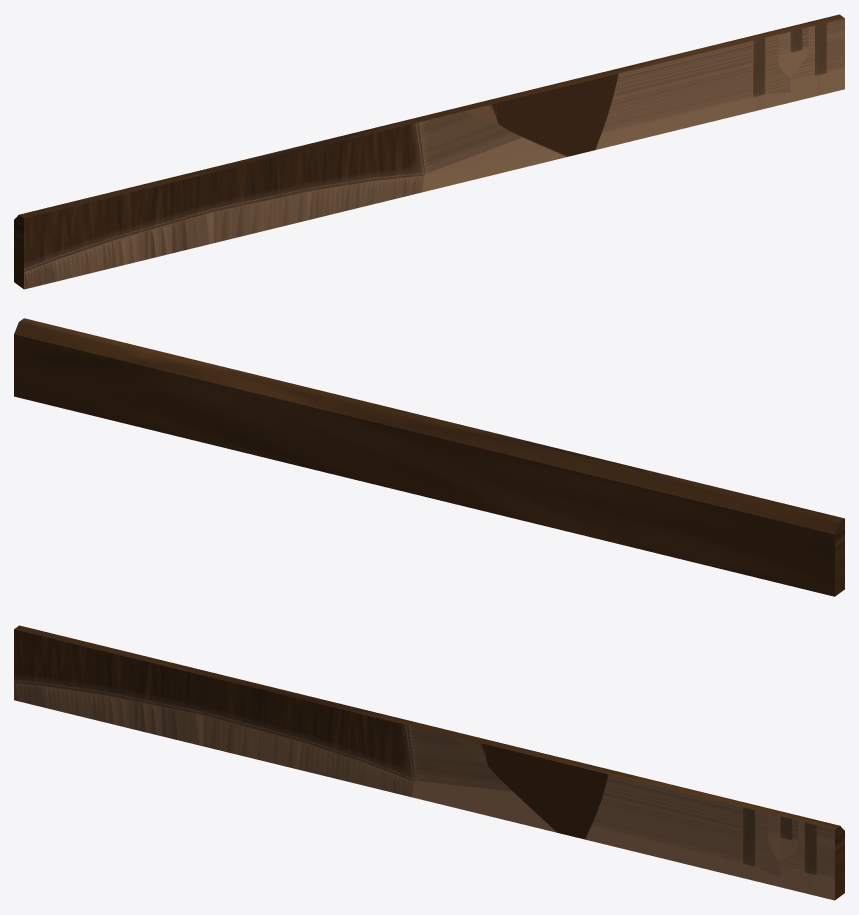
File: SM_WallBar.fbx
3 views of the same model, one above another, from view 1: azimuth 30°, elevation 25°; view 2: azimuth 150°, elevation 25°; view 3: azimuth 330°, elevation 25° (orthographic).
Visible parts, largest first — view 1: Cube.001; view 2: Cube.001; view 3: Cube.001.
Part boxes in pixels (box(x1,y1,x2,y2)): Cube.001: box(14, 14, 844, 289); Cube.001: box(14, 318, 844, 596); Cube.001: box(14, 625, 844, 900).
Bounding box in the file's own units: 198 × 16.32 × 4.23.
